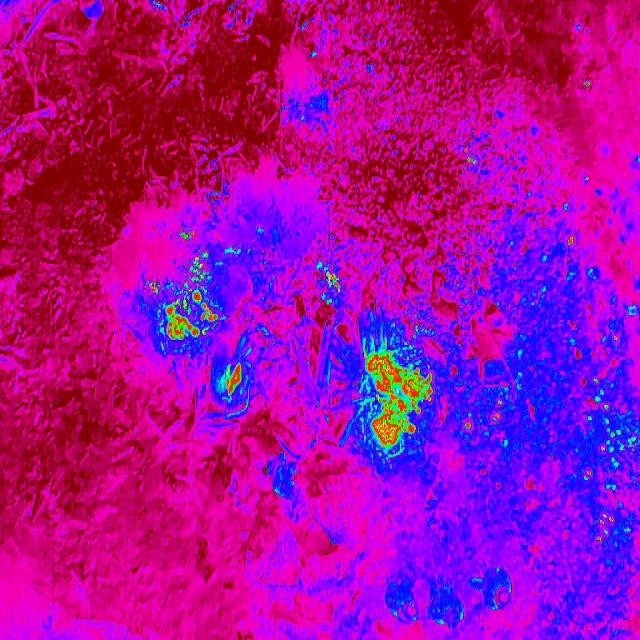fire: (570, 336, 640, 555), (364, 353, 432, 455), (148, 275, 222, 344), (456, 405, 506, 440), (219, 362, 247, 401), (321, 266, 344, 296), (560, 230, 578, 254), (174, 228, 197, 243)
